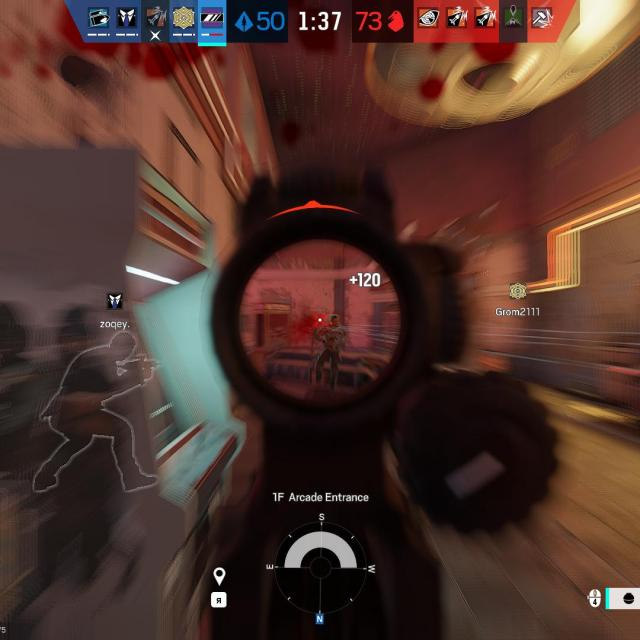Character: (313, 314, 349, 393)
Friend_label: (494, 280, 542, 318), (99, 291, 132, 330)
